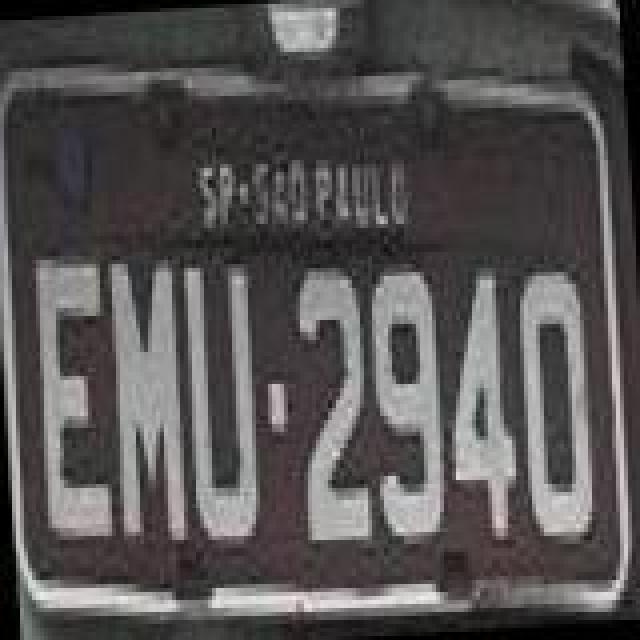2: (286, 260, 378, 556)
4: (438, 266, 522, 550)
9: (366, 262, 450, 546)
E: (28, 254, 124, 546)
M: (102, 252, 194, 548)
O: (512, 266, 600, 550)
U: (178, 258, 270, 550)
